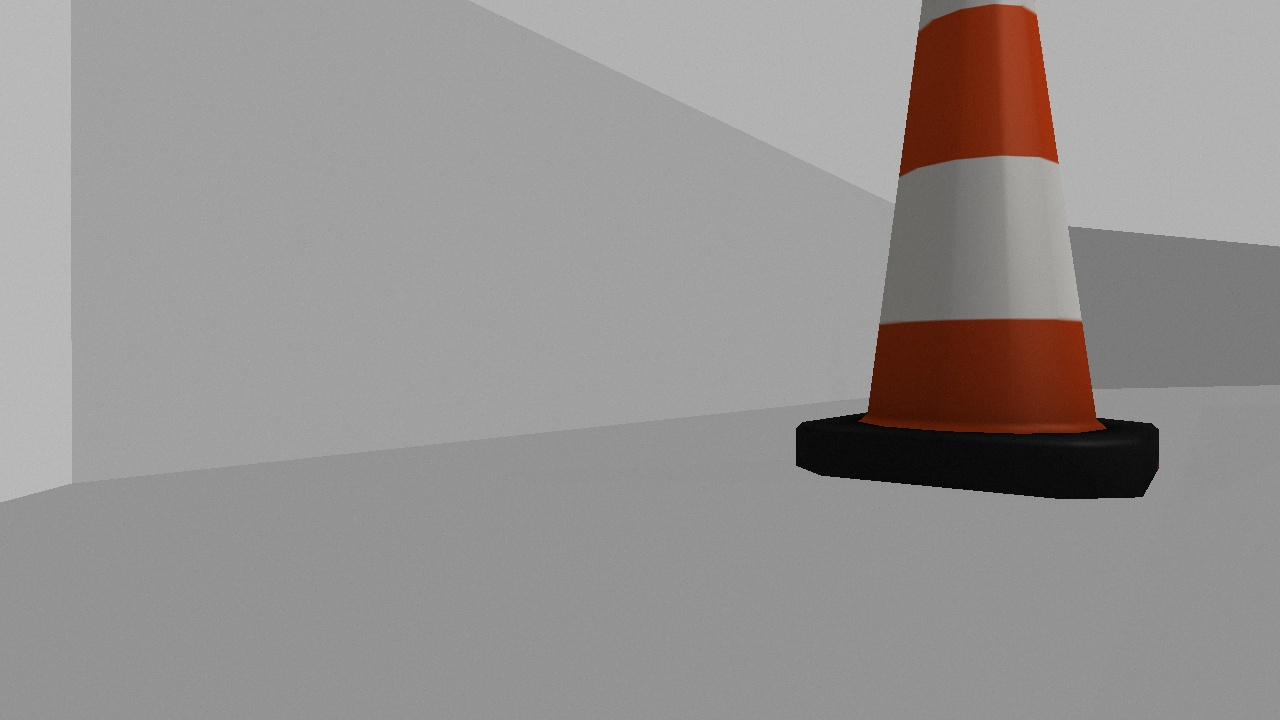barricade: (797, 1, 1160, 500)
